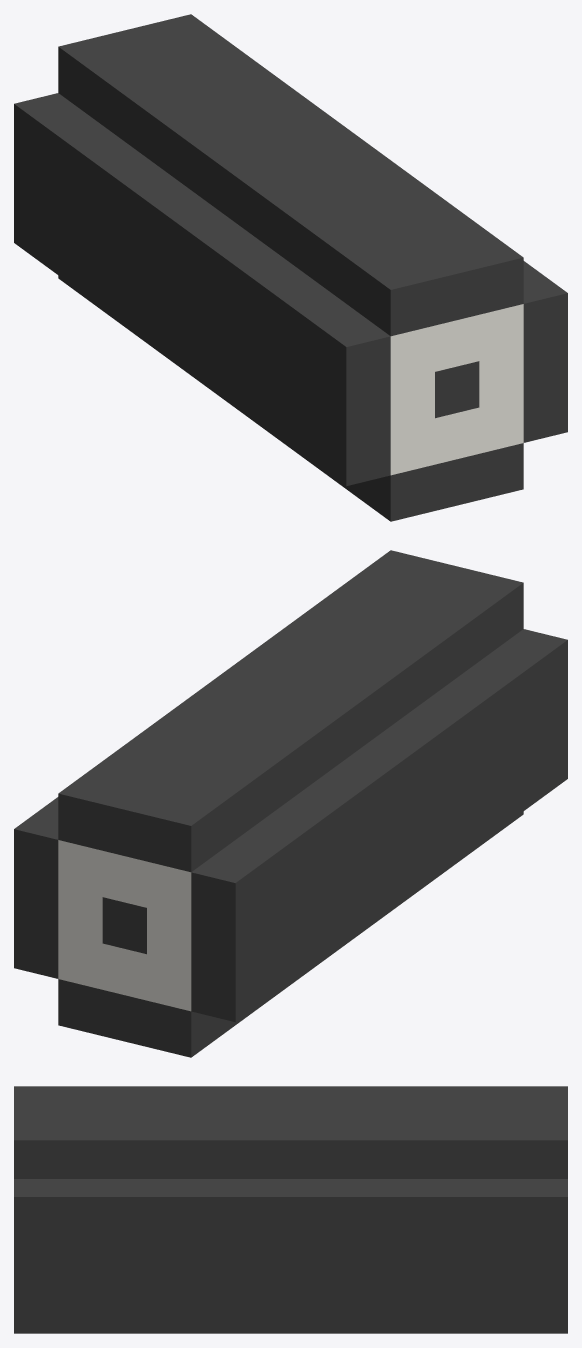
File: 210413 wheel.obj
The picture shows the model from 3 angles, top to bottom: view 1: azimuth 30°, elevation 25°; view 2: azimuth 150°, elevation 25°; view 3: azimuth 270°, elevation 25°; orthographic projection. The views are drawn at different scales.
Size of the model in its own units: 0.5 by 0.5 by 1.3.
1 material, 1 textured.
